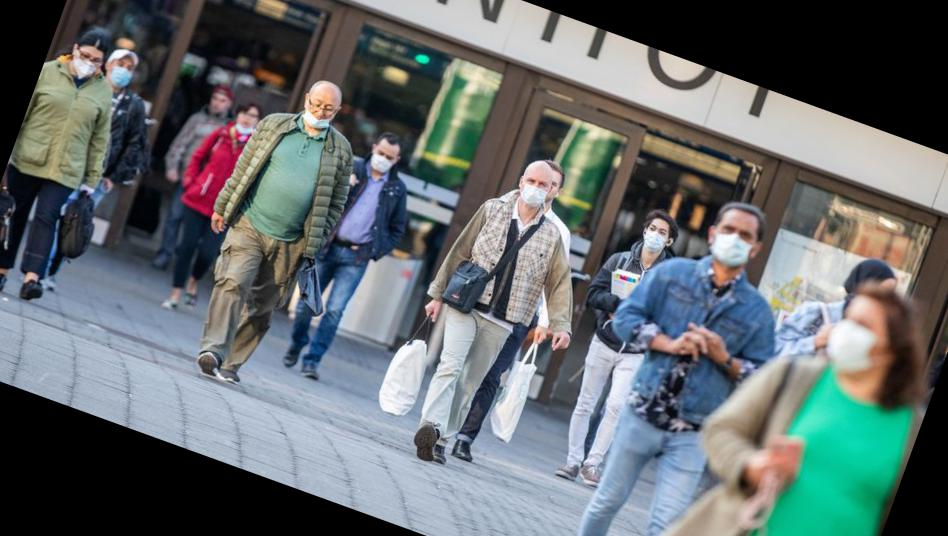mask_weared_incorrect: (302, 92, 339, 130), (234, 109, 259, 136)
with_mask: (820, 305, 890, 377), (711, 217, 759, 263), (516, 170, 556, 211), (70, 45, 104, 81), (369, 143, 400, 176), (643, 222, 671, 249), (110, 59, 138, 83)
without_mask: (207, 94, 229, 115)
